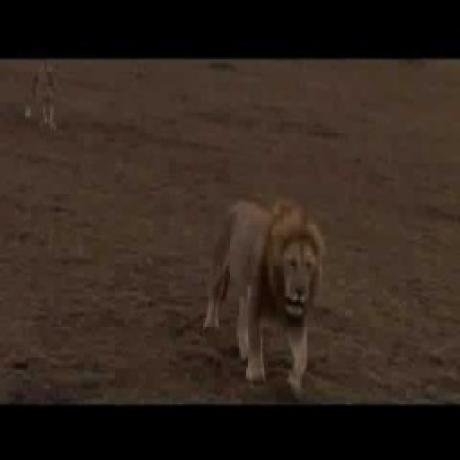Lion: (207, 191, 325, 394)
